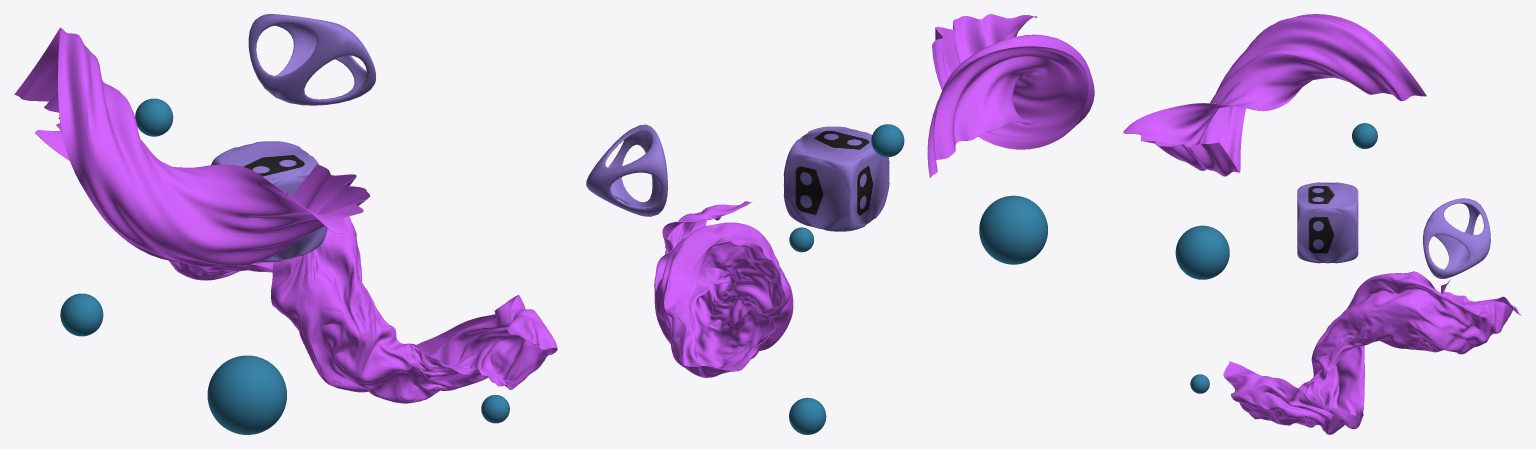
Rendered from landingPage.glb.
3 renders of one model, left to right at view 1: azimuth 30°, elevation 25°; view 2: azimuth 150°, elevation 25°; view 3: azimuth 270°, elevation 25°, orthographic. The views are drawn at different scales.
Visible parts, largest first — view 1: cloth, cloth2, Cube, ball2, Cube.001, ball1, ball3, ball4; view 2: cloth, cloth2, Cube.001, Cube, ball2, ball1, ball3, ball4; view 3: cloth2, cloth, Cube.001, Cube, ball2, ball3.
Boxes of the visible parts, bbox=[...] form: cloth: bbox=[14, 27, 370, 267]; cloth2: bbox=[168, 216, 557, 403]; Cube: bbox=[248, 14, 376, 105]; ball2: bbox=[207, 355, 286, 434]; Cube.001: bbox=[211, 141, 327, 262]; ball1: bbox=[60, 293, 103, 336]; ball3: bbox=[135, 98, 173, 136]; ball4: bbox=[481, 395, 509, 423]; cloth: bbox=[927, 14, 1094, 177]; cloth2: bbox=[654, 201, 793, 377]; Cube.001: bbox=[783, 126, 889, 231]; Cube: bbox=[586, 124, 667, 216]; ball2: bbox=[979, 195, 1047, 264]; ball1: bbox=[789, 397, 826, 434]; ball3: bbox=[871, 124, 904, 157]; ball4: bbox=[789, 227, 813, 252]; cloth2: bbox=[1223, 271, 1521, 434]; cloth: bbox=[1123, 14, 1426, 176]; Cube.001: bbox=[1297, 182, 1358, 263]; Cube: bbox=[1423, 198, 1490, 278]; ball2: bbox=[1175, 225, 1229, 279]; ball3: bbox=[1352, 123, 1377, 148].
Size of the model in its own units: 2.52 by 2.2 by 2.68.
Materials: 4 (1 with a texture image).
